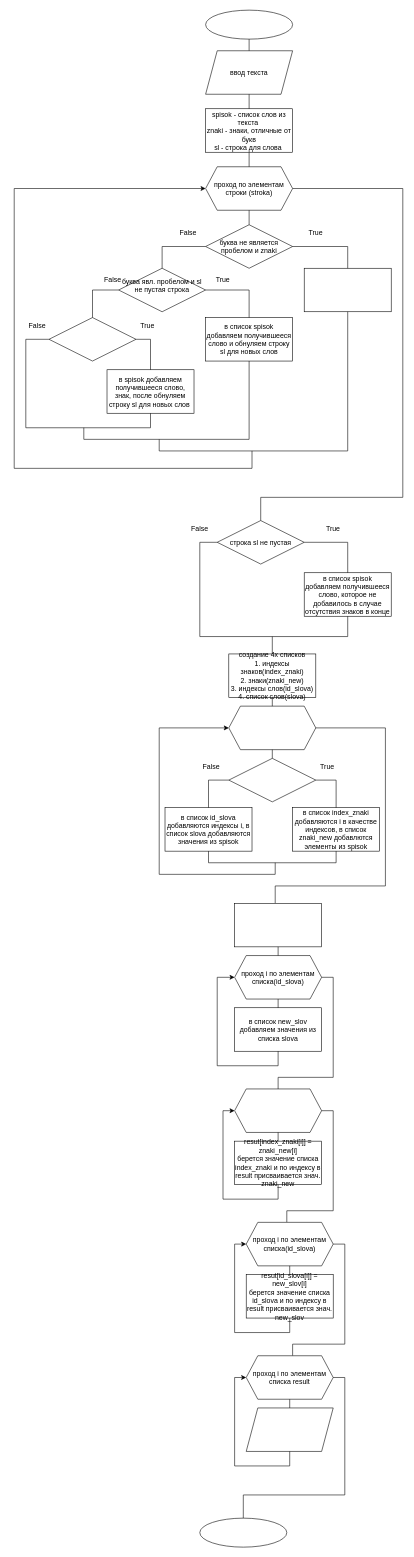
This 414x1557 diagram has some shape labels left out. The shapes that lost their labels are listed below. From the top down, each one's centre as x and y in pixels, then its label:
the point at 249,24: начало
the point at 347,290: к строке sl прибавляем по порядку буквы st
the point at 92,339: буква из znaki
the point at 272,728: проход i по элементам списка(spisok)
the point at 272,780: элемент списка в znaki
the point at 278,925: создание списков result по длине spisok, new_slov
the point at 278,1110: проход i по элементам списка(index_znaki)
the point at 289,1429: вывод i через пробел
the point at 243,1532: конец
